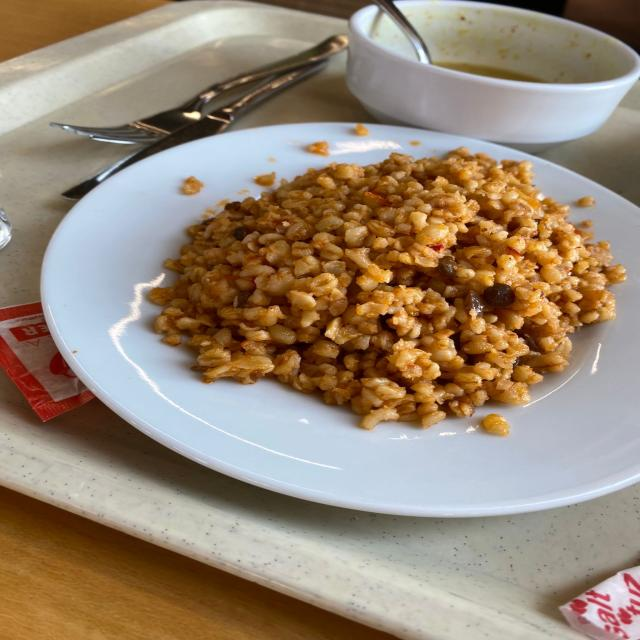ana_yemek: (142, 146, 622, 436)
